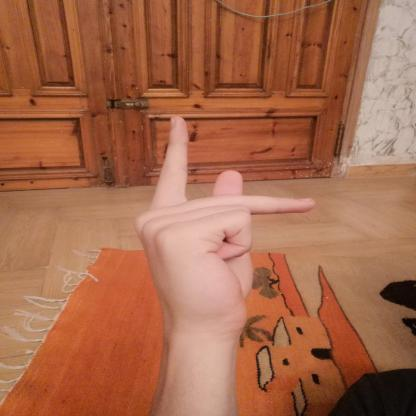DHAA: (125, 108, 332, 348)
